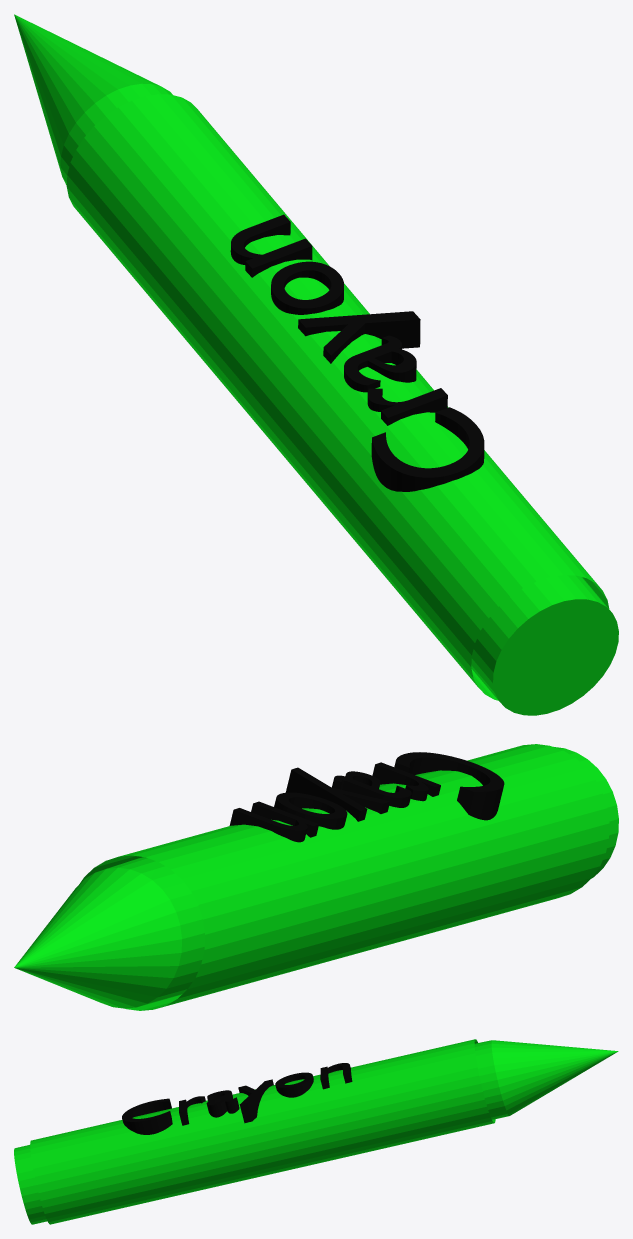
File: Crayon_green.fbx
The picture shows the model from 3 angles, top to bottom: view 1: azimuth 30°, elevation 25°; view 2: azimuth 150°, elevation 25°; view 3: azimuth 270°, elevation 25°; orthographic projection. The views are drawn at different scales.
Parts seen in each view (by area): view 1: Text.009; view 2: Text.009; view 3: Text.009.
Part boxes in pixels (x1=…): Text.009: x1=14, y1=14, x2=618, y2=715; Text.009: x1=14, y1=744, x2=618, y2=1010; Text.009: x1=14, y1=1039, x2=618, y2=1224.
Bounding box in the file's own units: 1.74 × 3.91 × 12.08.
